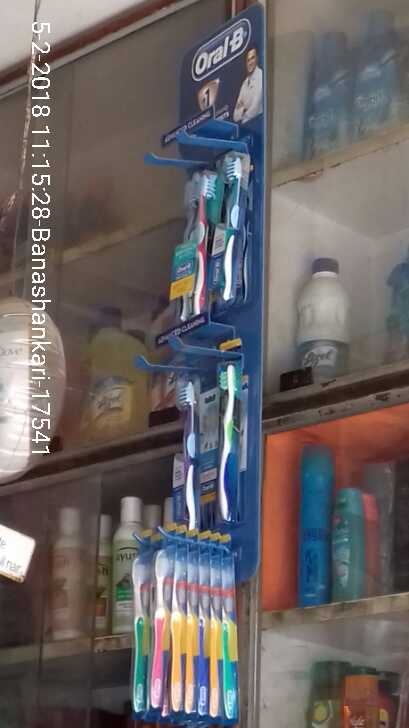oralb: (212, 357, 248, 523), (217, 149, 249, 303), (172, 374, 203, 528), (147, 538, 172, 713)
